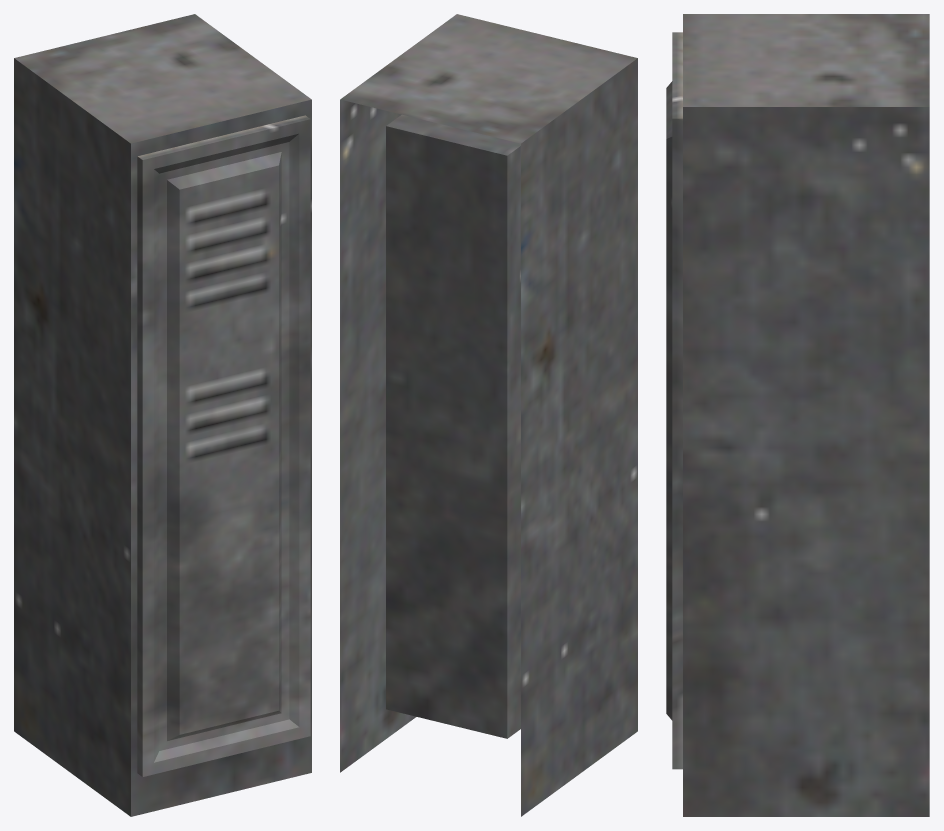
Rendered from Locker.FBX.
The picture shows the model from 3 angles, left to right: view 1: azimuth 30°, elevation 25°; view 2: azimuth 150°, elevation 25°; view 3: azimuth 270°, elevation 25°; orthographic projection. The views are drawn at different scales.
Parts seen in each view (by area): view 1: Locker; view 2: Locker; view 3: Locker.
Boxes of the visible parts, <box> form: Locker: <box>14,14,311,816</box>; Locker: <box>340,14,637,816</box>; Locker: <box>666,14,929,816</box>.
Bounding box in the file's own units: 41.12 × 146 × 49.1.
